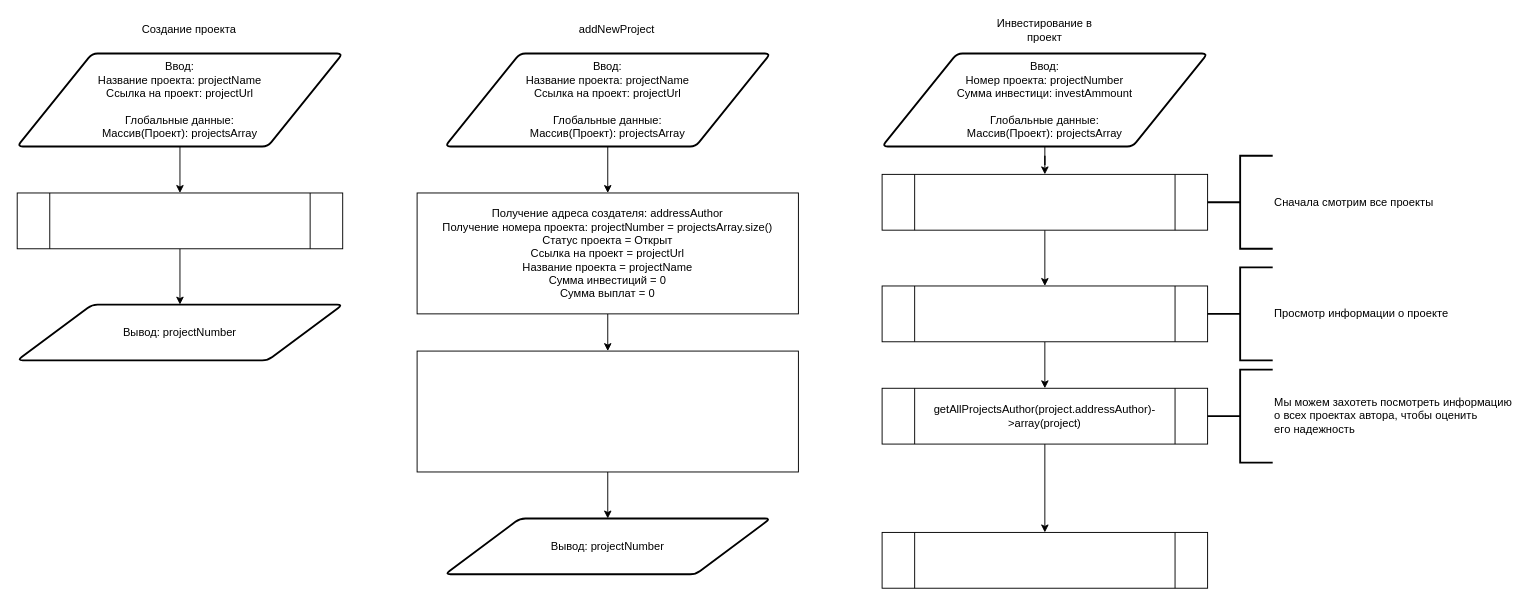
This 1528x605 diagram has some shape labels left out. The centre of each missing label's shape, as x and y in pixels:
addNewProject(projectName, projectUrl) -> projectNumber: the point at 179,220
getAllProjects() -> array(project): the point at 1044,201
getProjectInfo(projectNumber) -> project: the point at 1044,313
invest(investAmmount, project.projectNumber, addressGuardMoney)->array(project): the point at 1044,559
Создание стурктуры Проект и добавление ее в массив projectsArray: the point at 607,411
